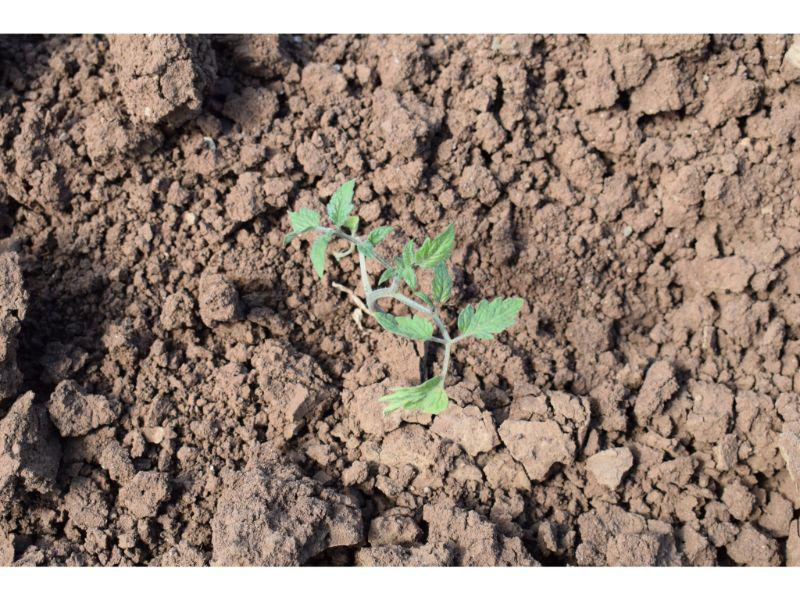tomato: (285, 181, 526, 415)
